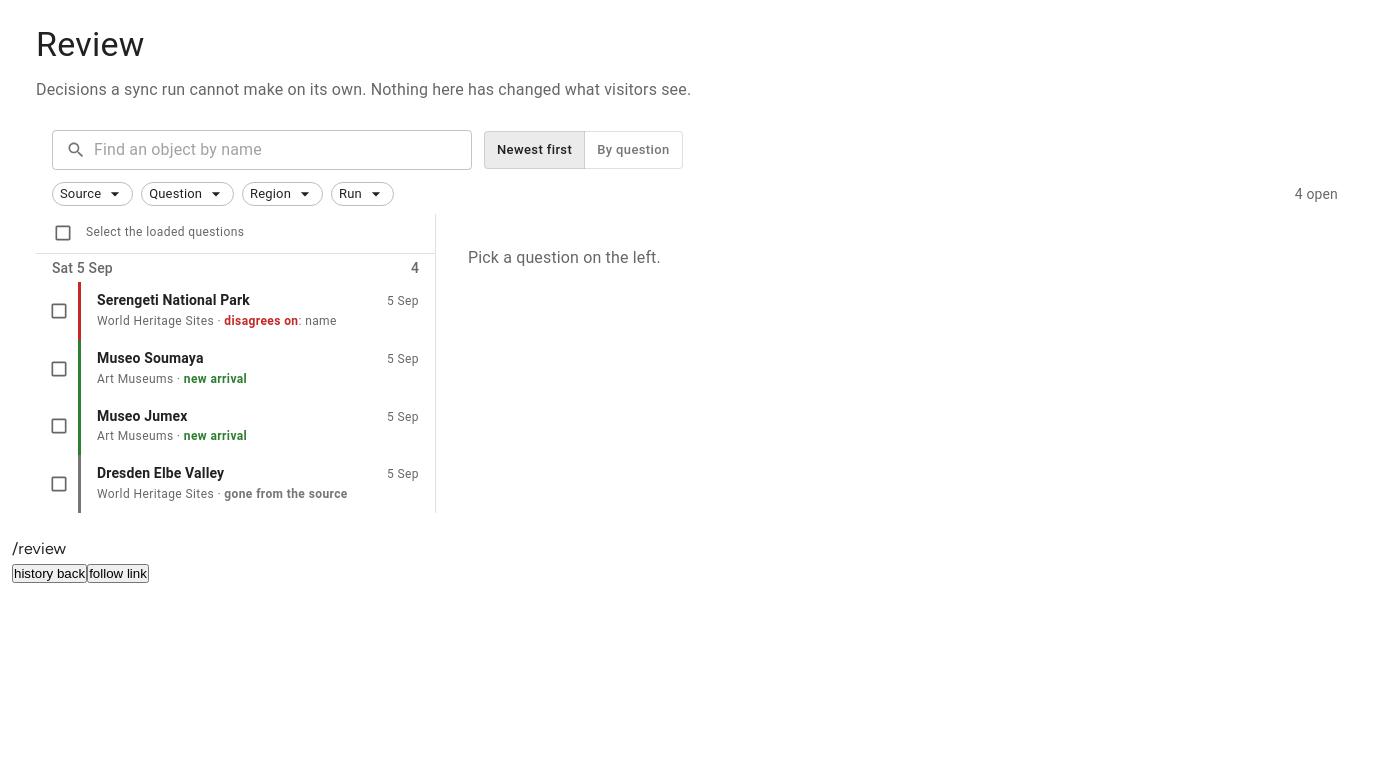
Test: answering a selection › offers Lost to a selection wholly of one verdict kind
The width and height of the screenshot is (1378, 768).
What coordinates should you click on to do the following:
click the checkbox named "Select Dresden Elbe Valley"
I would click on:
 (59, 484)
Its box is top-left (49, 474), bottom-right (69, 494).
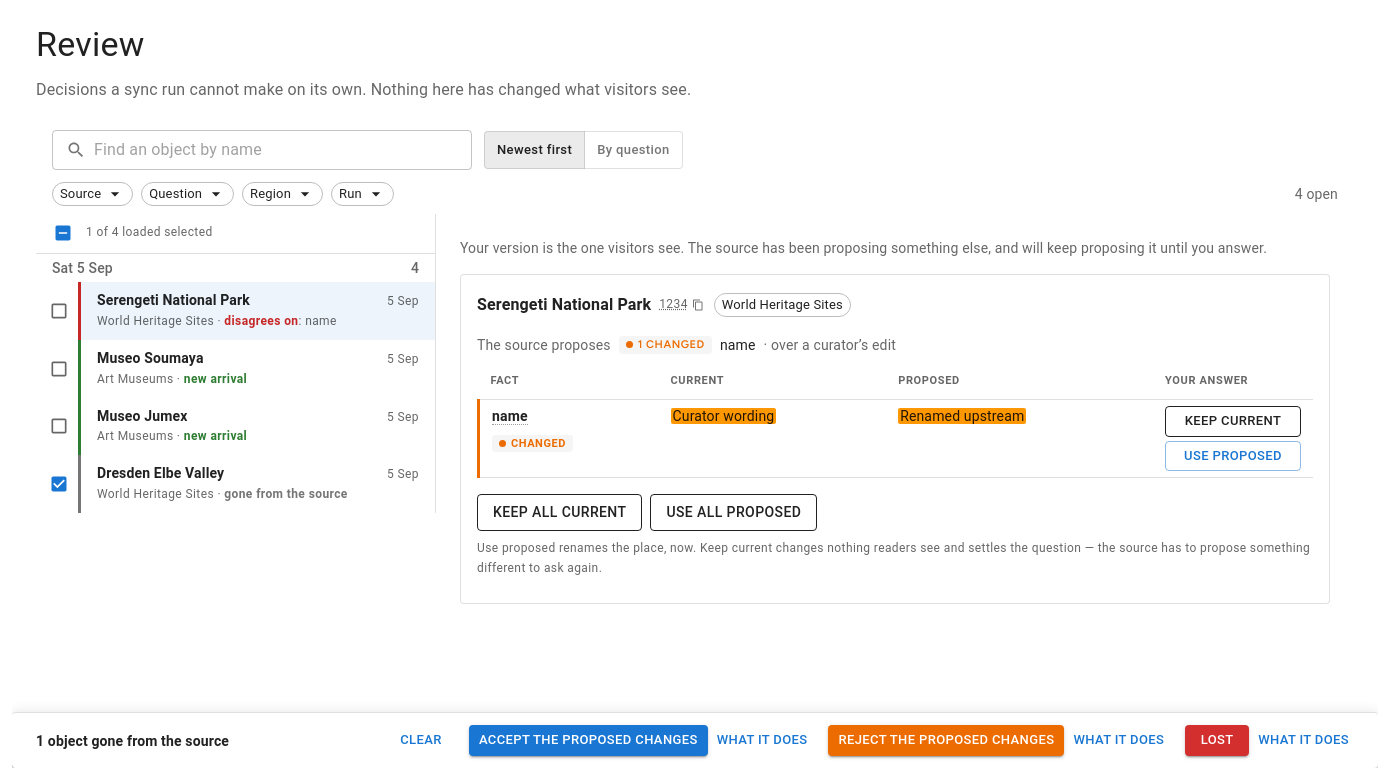
Result: the button "Lost" is shown at top-left (1185, 725), bottom-right (1249, 756)
